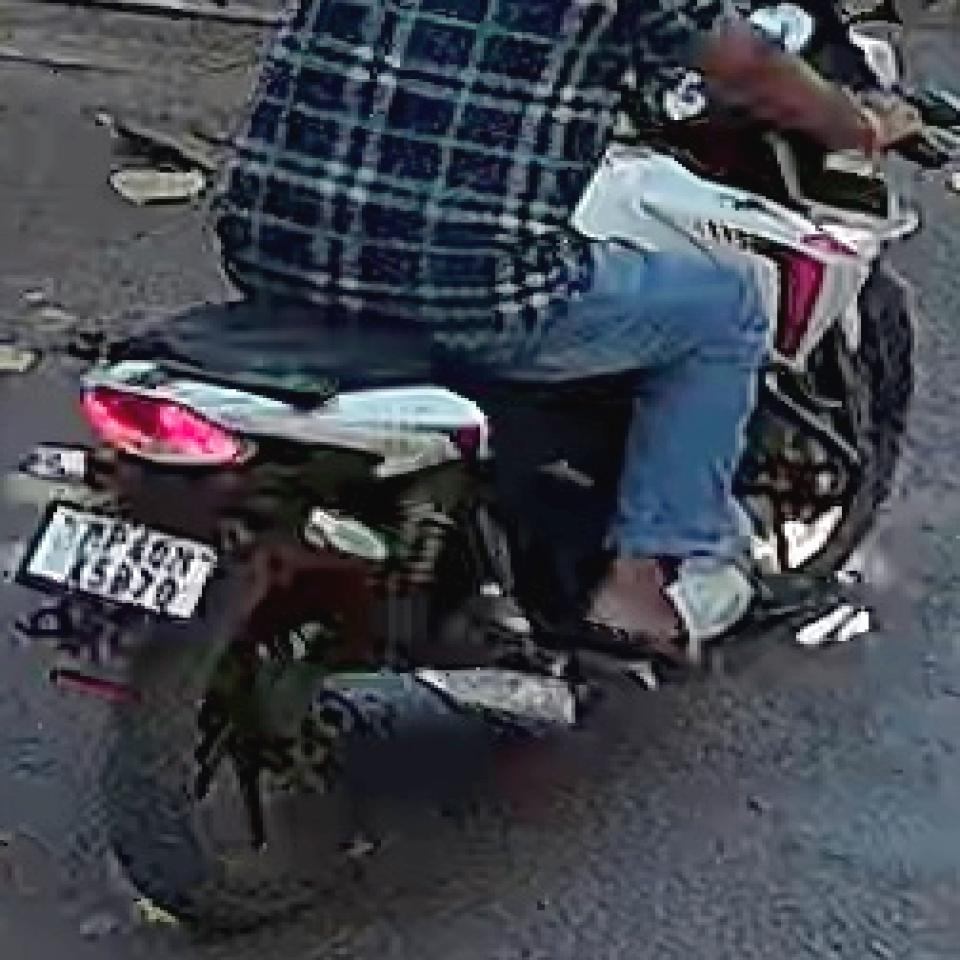tail_light: (82, 382, 242, 461)
